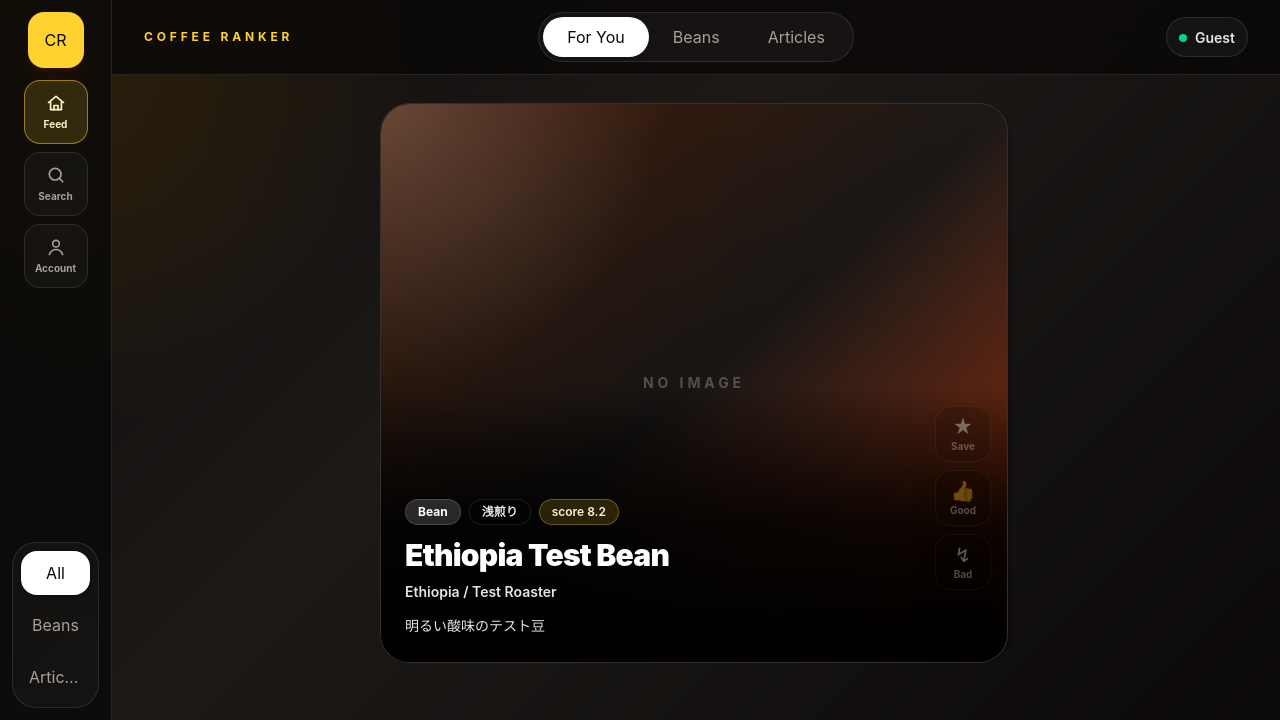
Scenario: App integration › 未ログインでもFeedを表示し、Bean詳細へ遷移できる
Expected: the text "Coffee Ranker" is shown, [144,29,293,45]
Expected: the text "Guest" is shown, [1195,28,1235,48]
Step 1. Click the button named "Ethiopia Test Bean の詳細を表示" → (694, 383), box [381,104,1007,662]
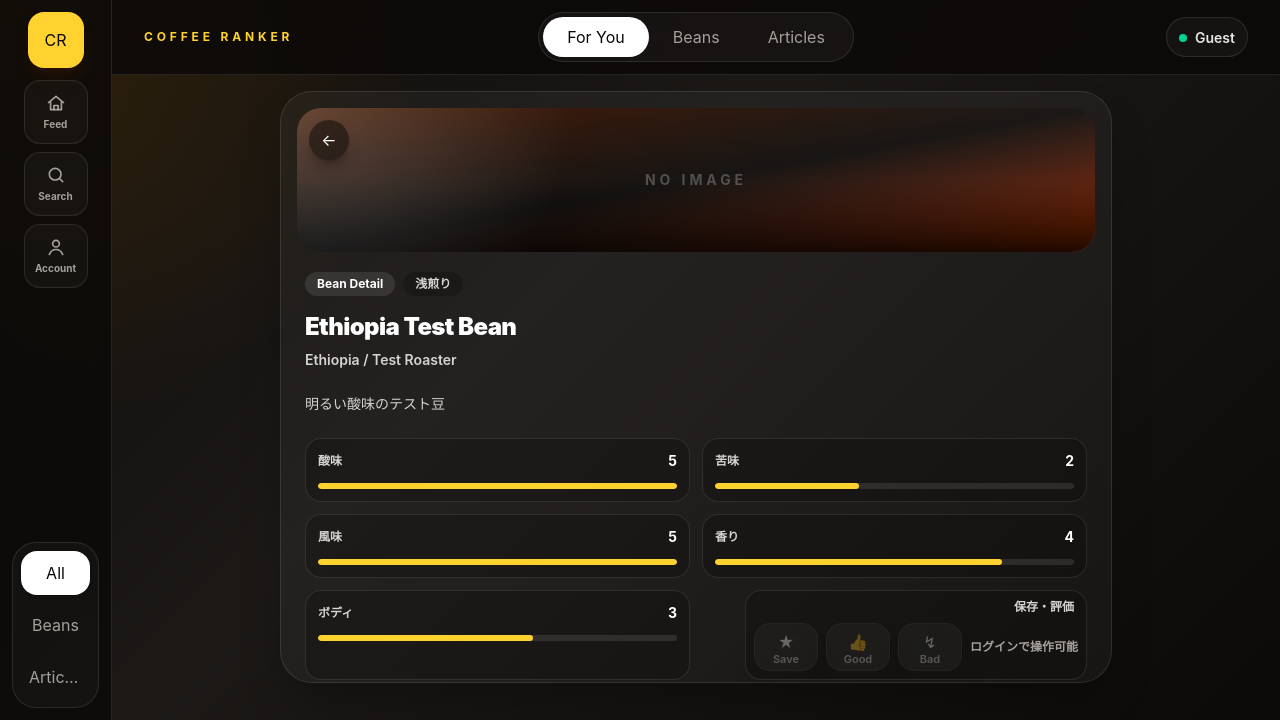
Expected: the text "Bean Detail" is shown, [305,272,395,296]
